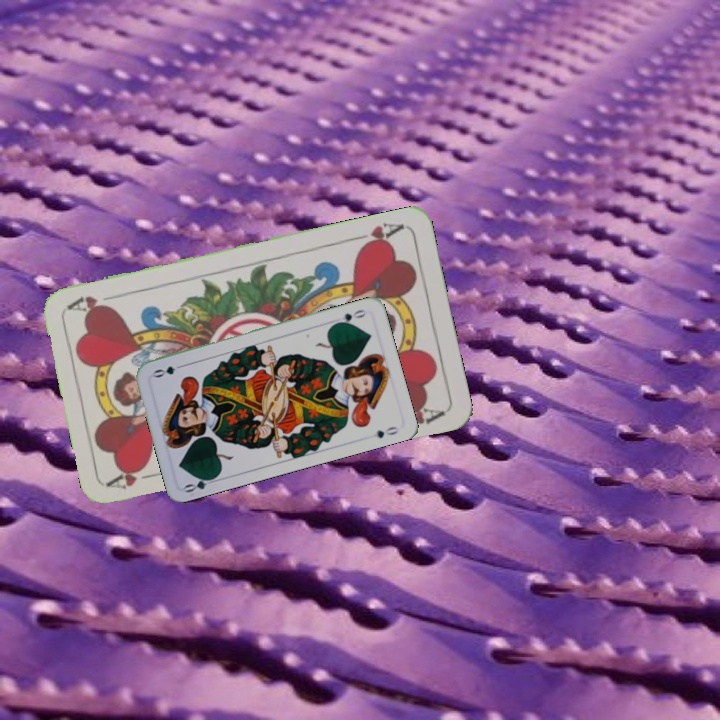GO: (180, 472, 221, 495), (331, 305, 368, 327)
HA: (348, 219, 406, 252), (105, 461, 164, 492)
